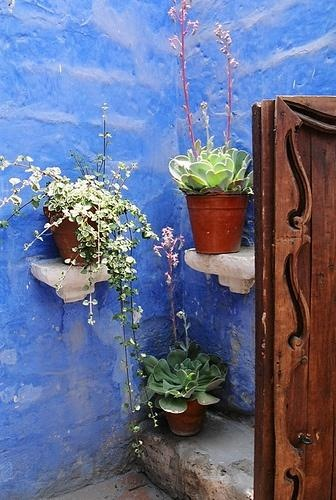pottedplant: (167, 1, 255, 255), (7, 153, 153, 266), (142, 333, 237, 436)
